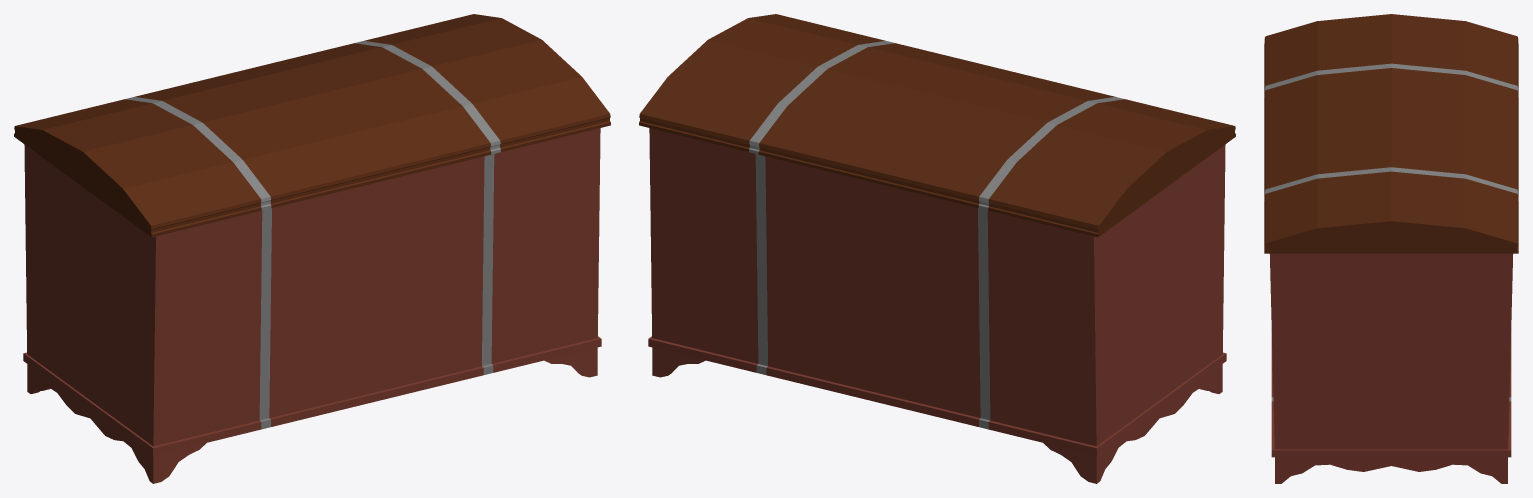
Rendered from prop_arkku.fbx.
3 renders of one model, left to right at view 1: azimuth 30°, elevation 25°; view 2: azimuth 150°, elevation 25°; view 3: azimuth 270°, elevation 25°, orthographic. The views are drawn at different scales.
Visible parts, largest first — view 1: Cube.001; view 2: Cube.001; view 3: Cube.001.
Boxes of the visible parts, <box> form: Cube.001: <box>14,14,610,483</box>; Cube.001: <box>639,14,1235,483</box>; Cube.001: <box>1264,14,1518,483</box>.
Bounding box in the file's own units: 616 × 369 × 320.
